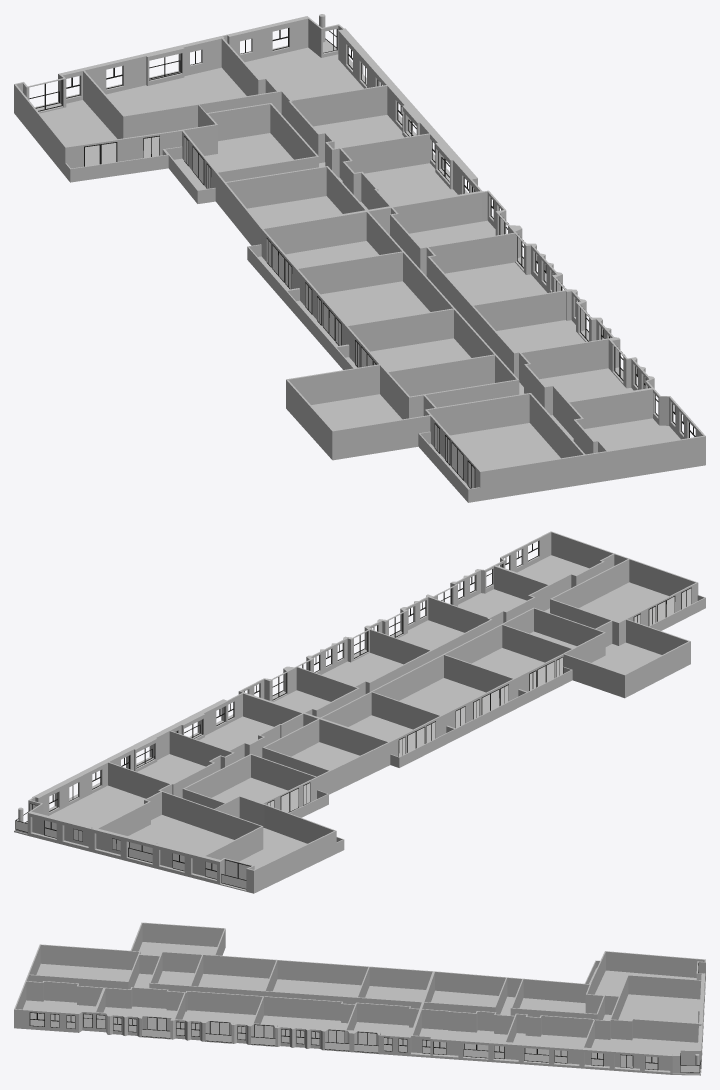
3 views of the same model, one above another, from view 1: azimuth 30°, elevation 25°; view 2: azimuth 150°, elevation 25°; view 3: azimuth 270°, elevation 25° (orthographic). The views are drawn at different scales.
Parts seen in each view (by area): view 1: 13.002, Sin título13.1; view 2: 13.002, Sin título13.1; view 3: 13.002, Sin título13.1.
Part boxes in pixels (x1=…): 13.002: x1=14, y1=14, x2=705, y2=502; Sin título13.1: x1=29, y1=28, x2=695, y2=488; 13.002: x1=14, y1=531, x2=705, y2=893; Sin título13.1: x1=15, y1=541, x2=691, y2=889; 13.002: x1=14, y1=922, x2=705, y2=1075; Sin título13.1: x1=29, y1=963, x2=700, y2=1072.
Size of the model in its own units: 38.26 by 2.5 by 83.36.
